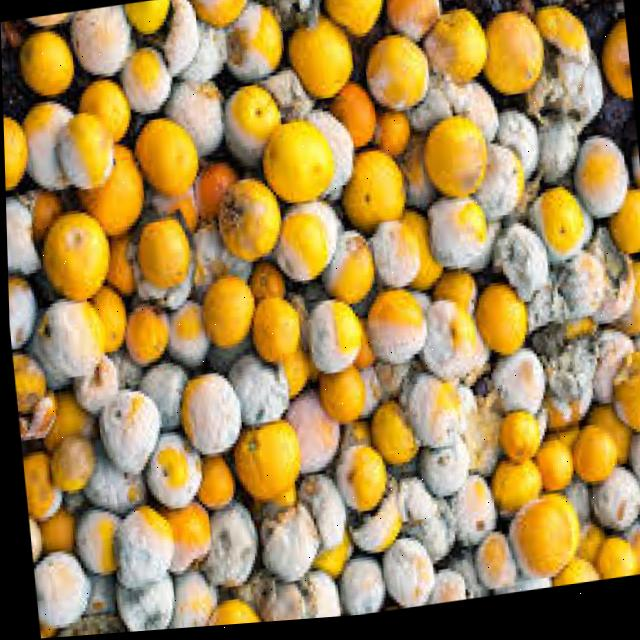Wet: (504, 496, 586, 594), (39, 207, 112, 300), (262, 114, 332, 208), (479, 415, 551, 506), (479, 16, 554, 102), (420, 120, 490, 210), (133, 114, 199, 206), (234, 418, 303, 506), (357, 291, 430, 373), (53, 110, 118, 198), (288, 16, 353, 102), (175, 373, 233, 467), (132, 211, 190, 304), (469, 281, 530, 368), (364, 37, 429, 115), (573, 139, 630, 225), (225, 86, 284, 166), (223, 178, 274, 265), (199, 275, 257, 350), (21, 28, 77, 102), (570, 426, 616, 498), (43, 435, 92, 499), (3, 111, 23, 180)
